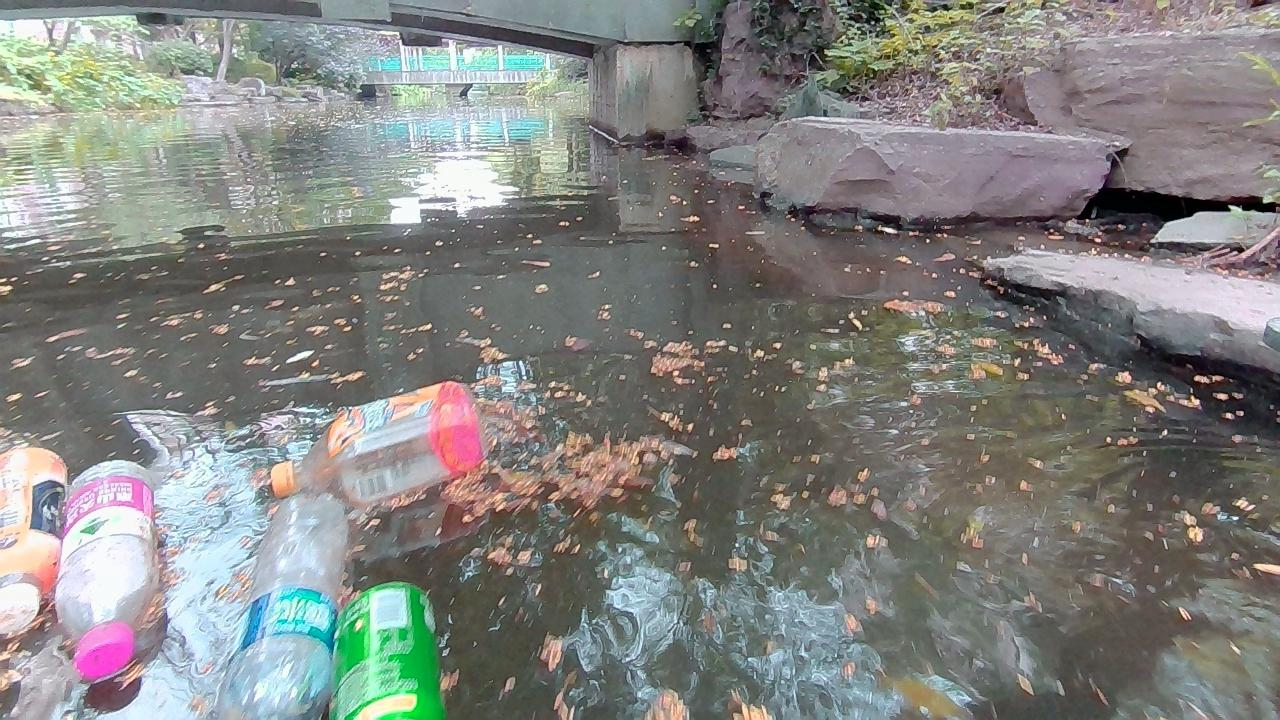Metal: (334, 579, 451, 720)
Plastic: (215, 490, 350, 720), (266, 379, 488, 510), (52, 457, 160, 680), (0, 444, 70, 634)
